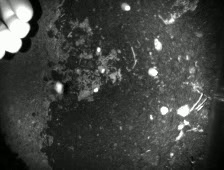corn: (152, 36, 164, 52), (53, 80, 65, 95), (146, 66, 159, 78), (95, 64, 107, 76), (119, 1, 132, 11), (94, 45, 102, 58), (92, 83, 102, 93)
